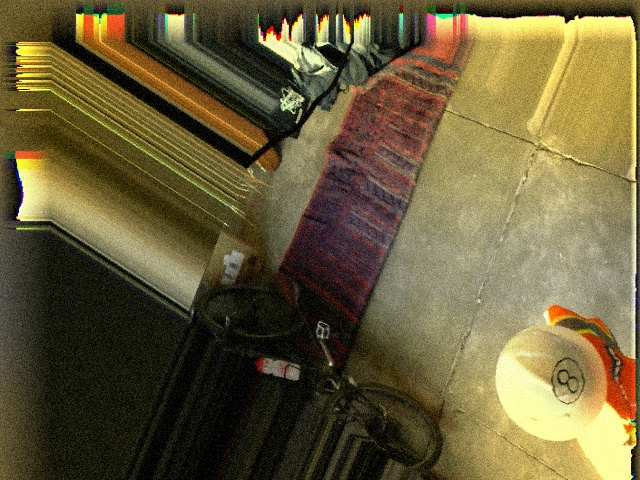eight: (542, 349, 589, 410)
